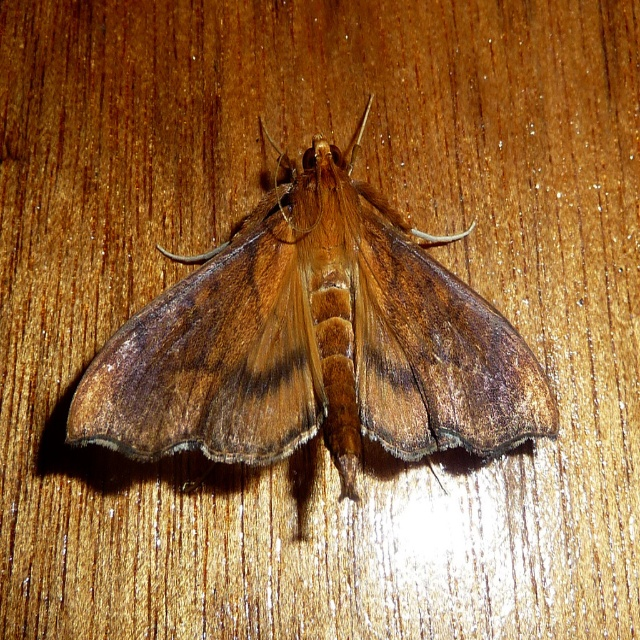Butterfly: (138, 94, 496, 546)
